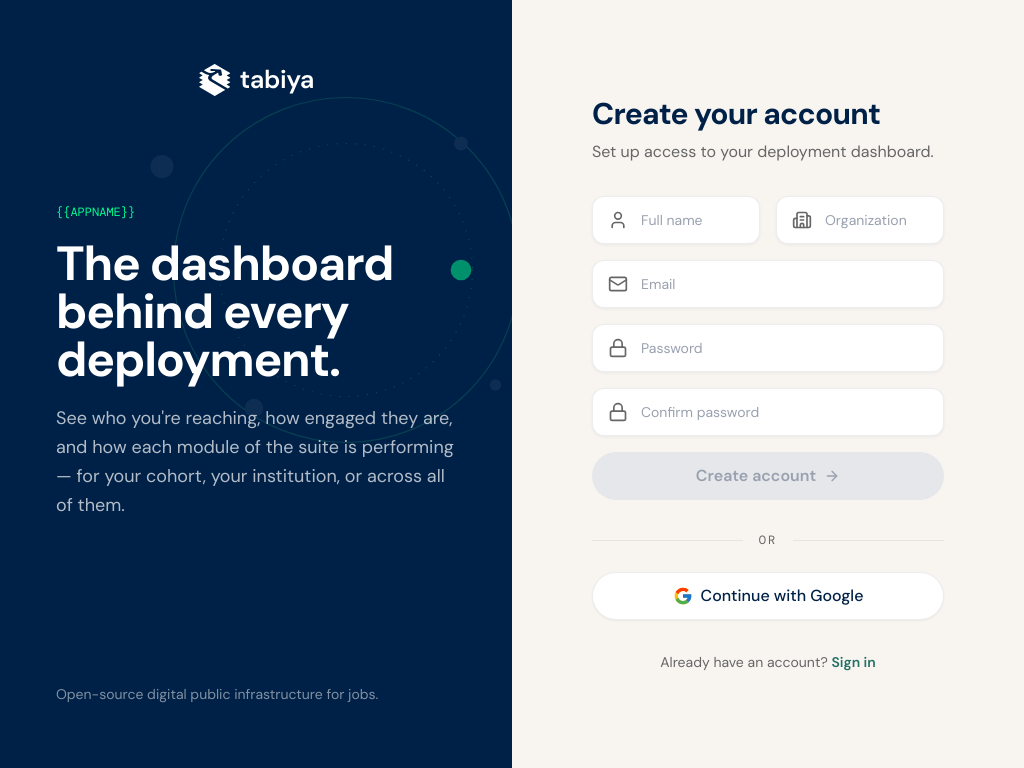
Register › Live validation › should show the mismatch error live once the passwords differ
Type "Passw0rd!" into the password field labelled "Password".
click(768, 348); type("Passw0rd!")  # box [592,324,944,372]
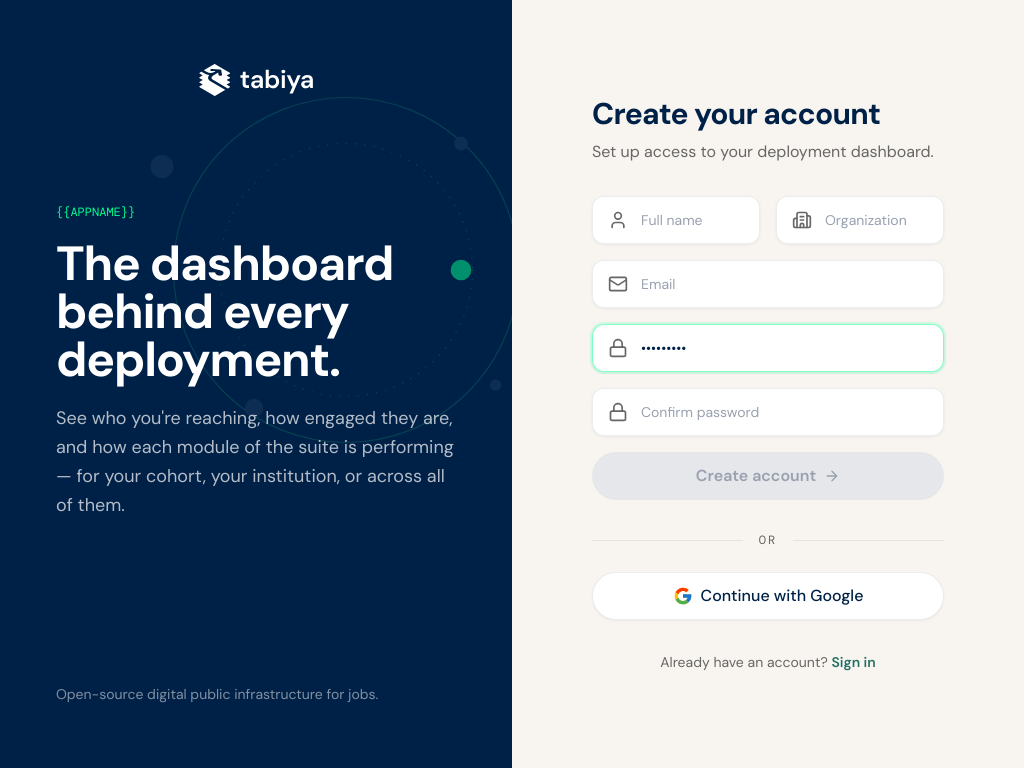
Type "Different1!" into the password field labelled "Confirm password".
click(768, 412); type("Different1!")  # box [592,388,944,436]
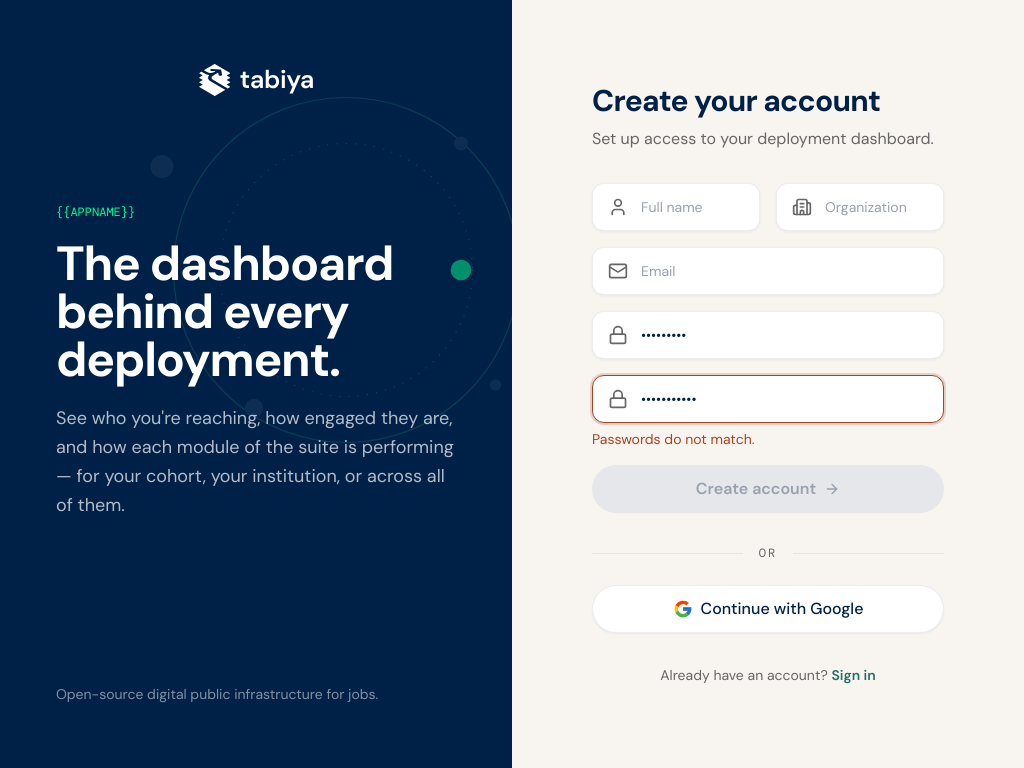
Expected: the text "Passwords do not match." is shown, [592,430,754,448]
